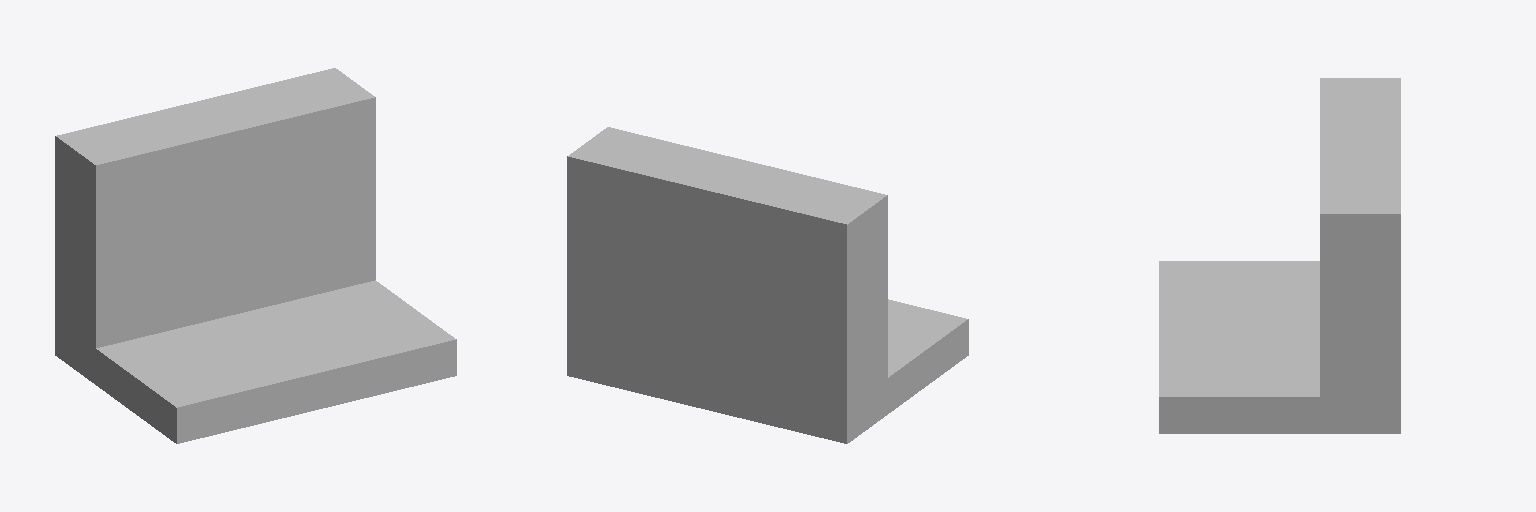
File: laptop.obj
3 views of the same model, side by side, from view 1: azimuth 30°, elevation 25°; view 2: azimuth 150°, elevation 25°; view 3: azimuth 270°, elevation 25° (orthographic).
Bounding box in the file's own units: 8 × 6 × 6.